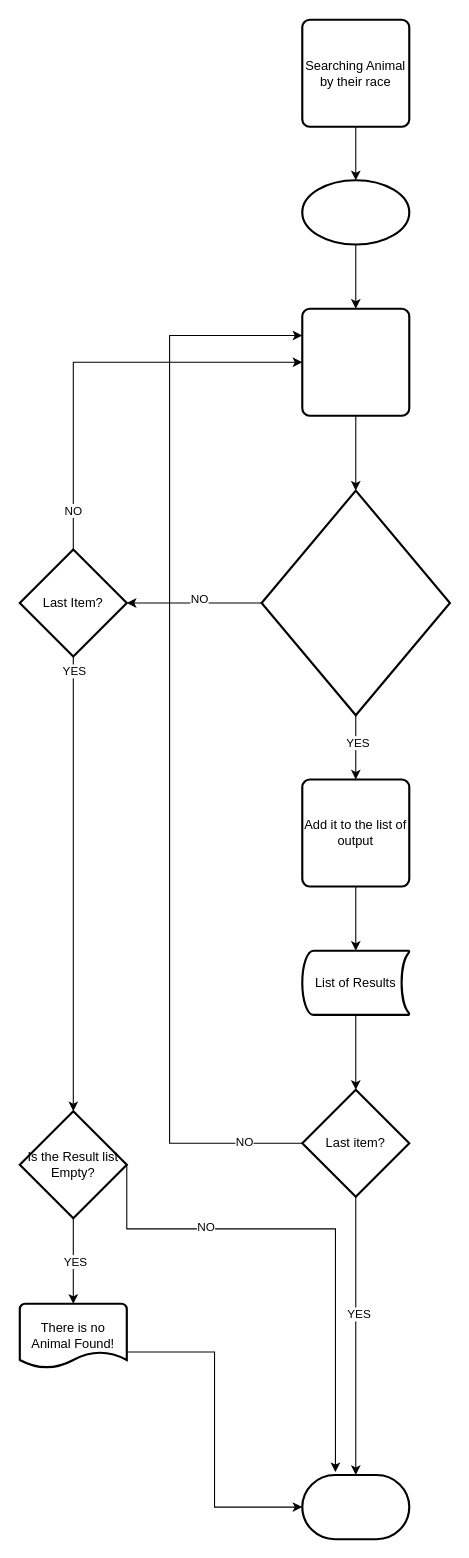
This 469x1558 diagram has some shape labels left out. Each missing label, with the centre of its shape:
Is it equal to what we want?: pixel 355 602
Loop through the list and find each objects race: pixel 355 361
START: pixel 355 212
Terminate: pixel 355 1506
